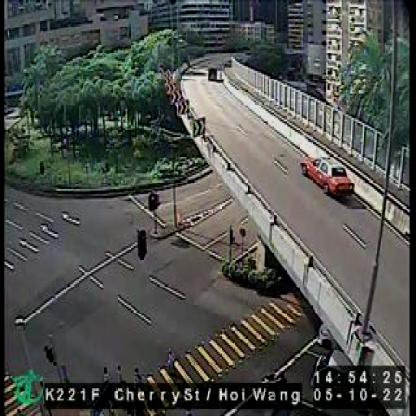Car: (300, 152, 352, 203)
